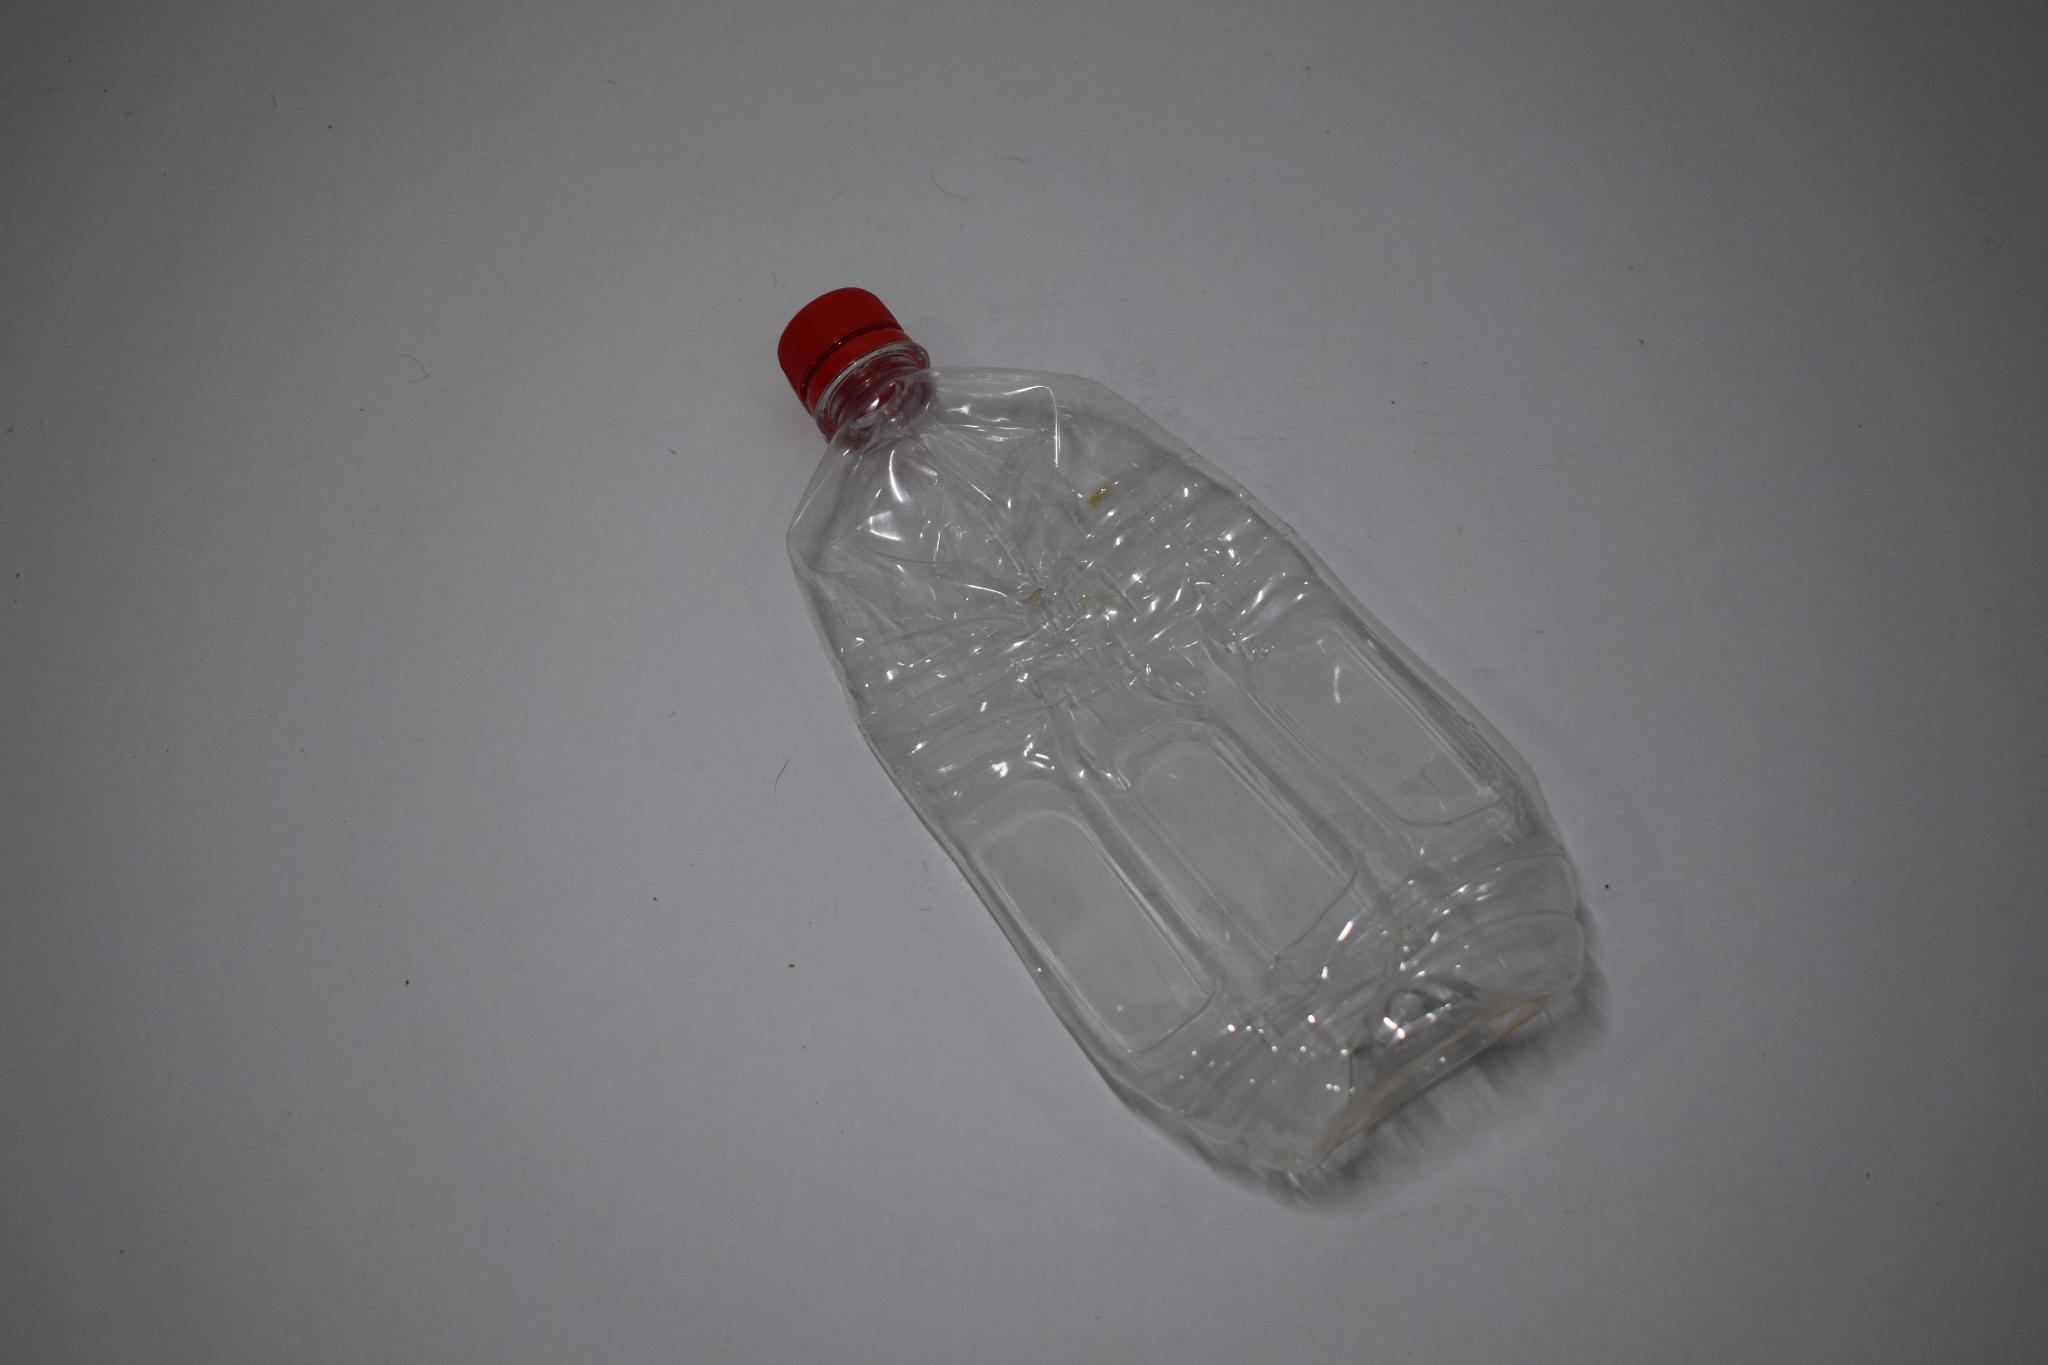bottle: (710, 246, 1640, 1232)
